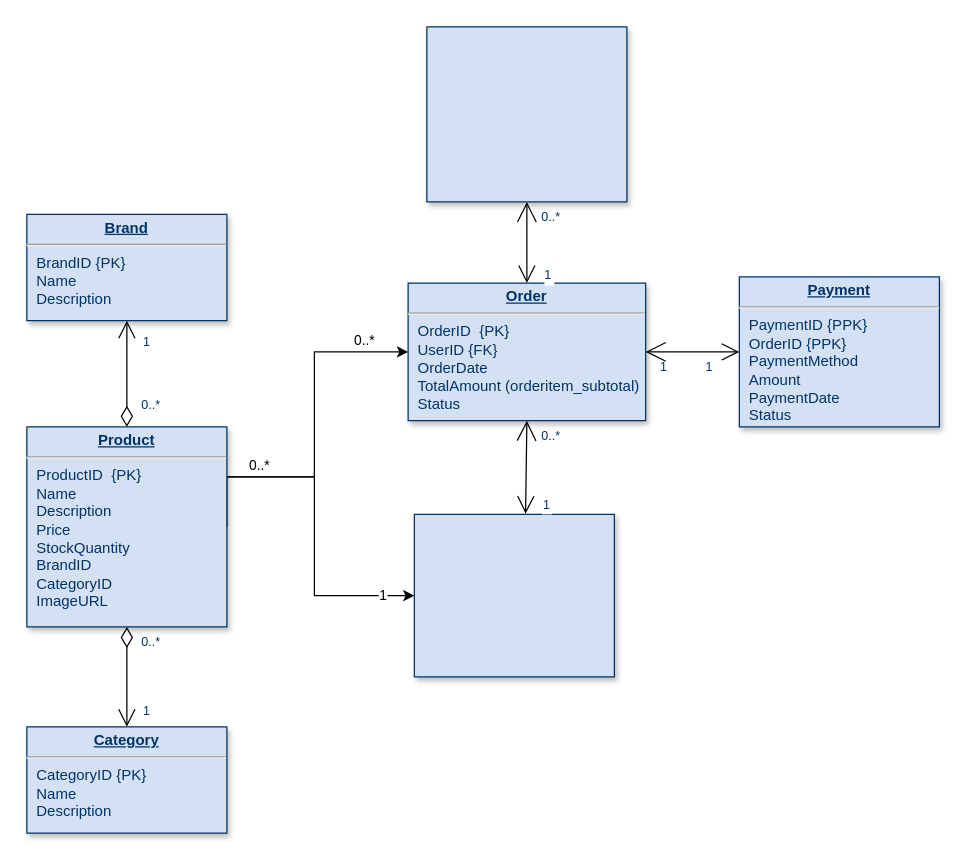
Image size: 969x864. Some labels were removed from this diagram. The shapes that lost their labels are listed below. From the top down, each one's centre as x and y in pixels, then its label:
[527,116]: User UserID {PK} Username Password Email FirstName LastName Address
[515,597]: OrderItem OrderID {PPK, FK} ProductID {PPK, FK} Quantity Subtotal
